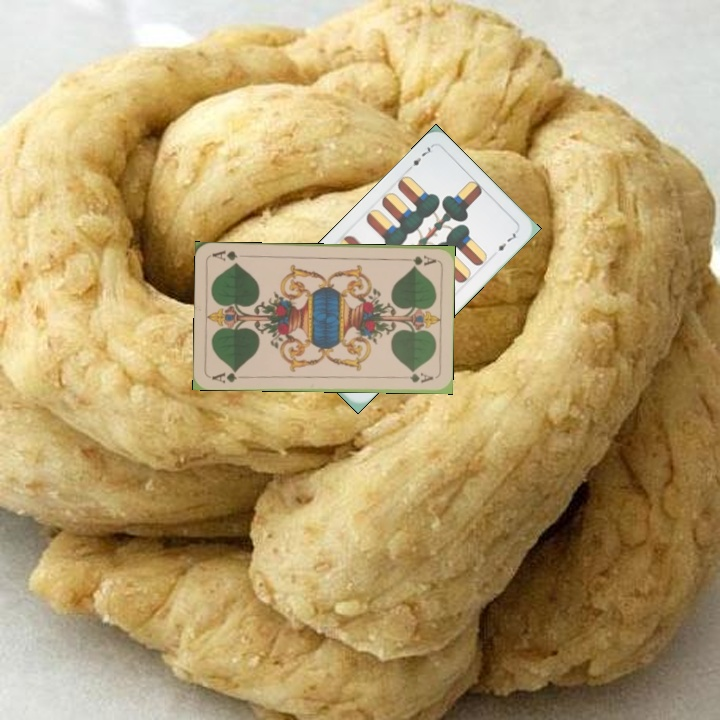E7: (403, 142, 436, 174)
GA: (208, 366, 248, 385), (398, 252, 438, 268)
